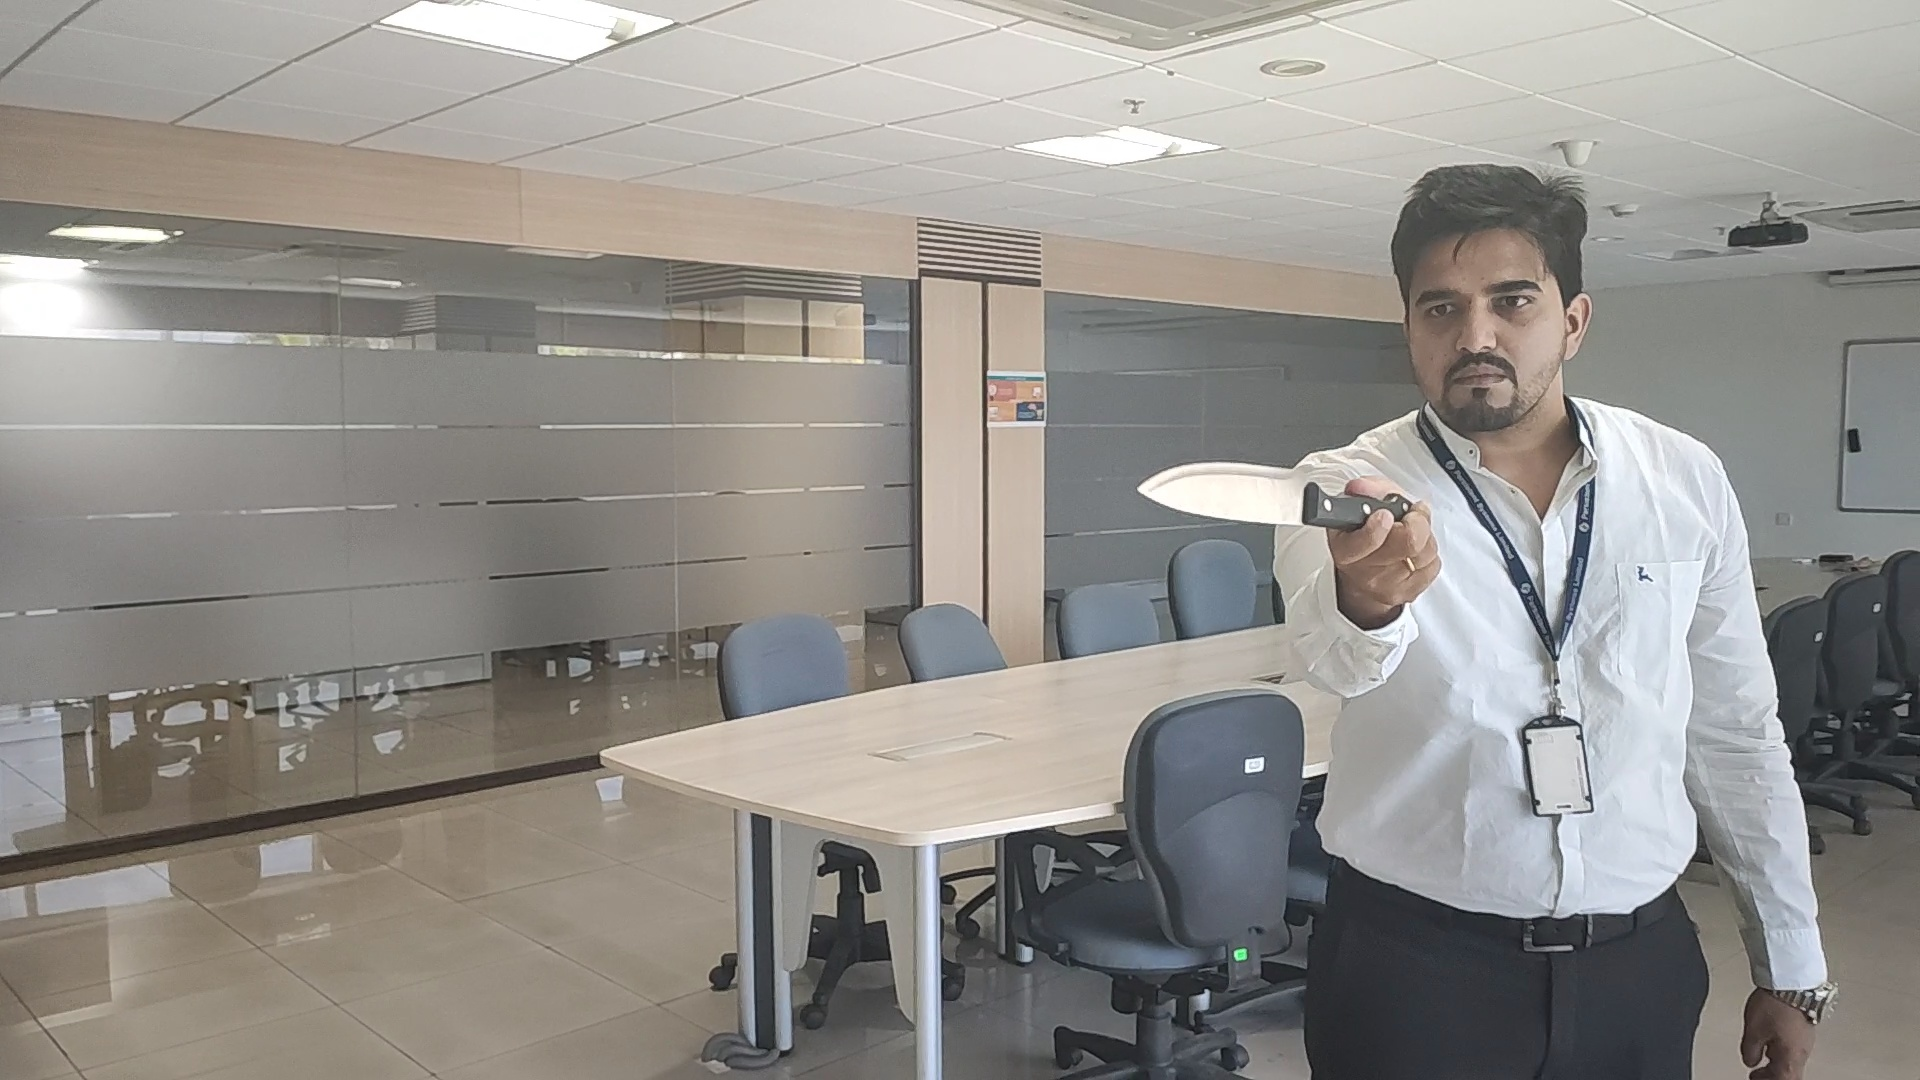knife: (1135, 460, 1374, 530)
